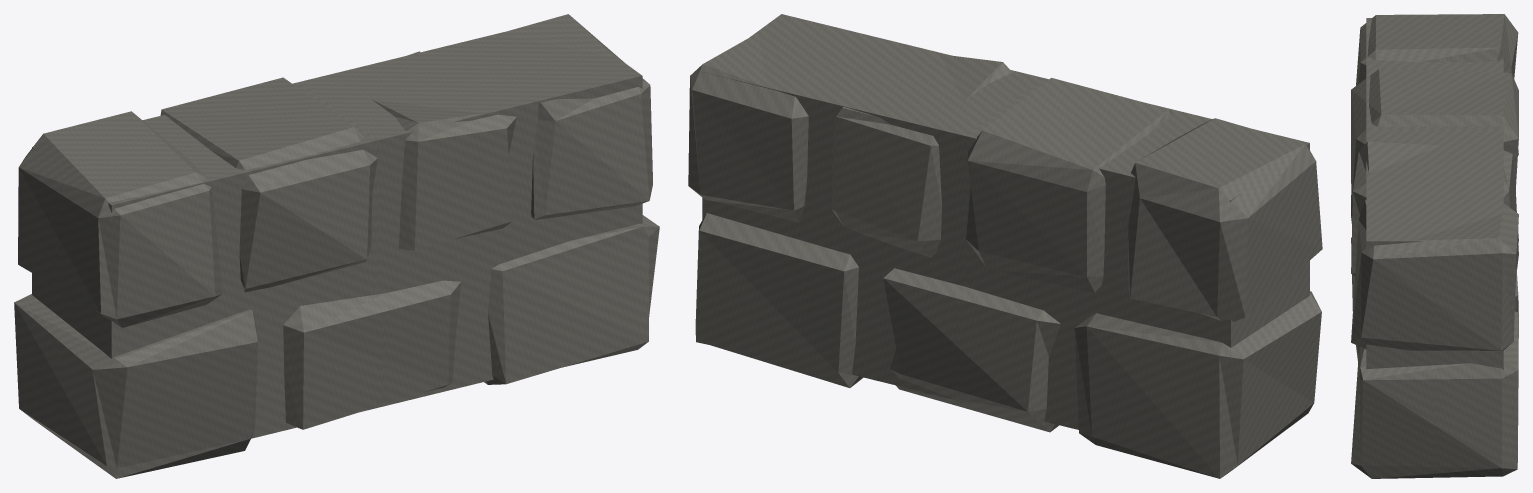
The model's file is dry_wall.glb.
3 renders of one model, left to right at view 1: azimuth 30°, elevation 25°; view 2: azimuth 150°, elevation 25°; view 3: azimuth 270°, elevation 25°, orthographic. The views are drawn at different scales.
Parts seen in each view (by area): view 1: dry_wall.001; view 2: dry_wall.001; view 3: dry_wall.001.
Boxes of the visible parts, left/top/right/bottom form: dry_wall.001: left=14, top=14, right=659, bottom=478; dry_wall.001: left=688, top=14, right=1322, bottom=478; dry_wall.001: left=1351, top=14, right=1518, bottom=478.
Bounding box in the file's own units: 1 × 0.5 × 0.3.
1 material, 1 textured.
